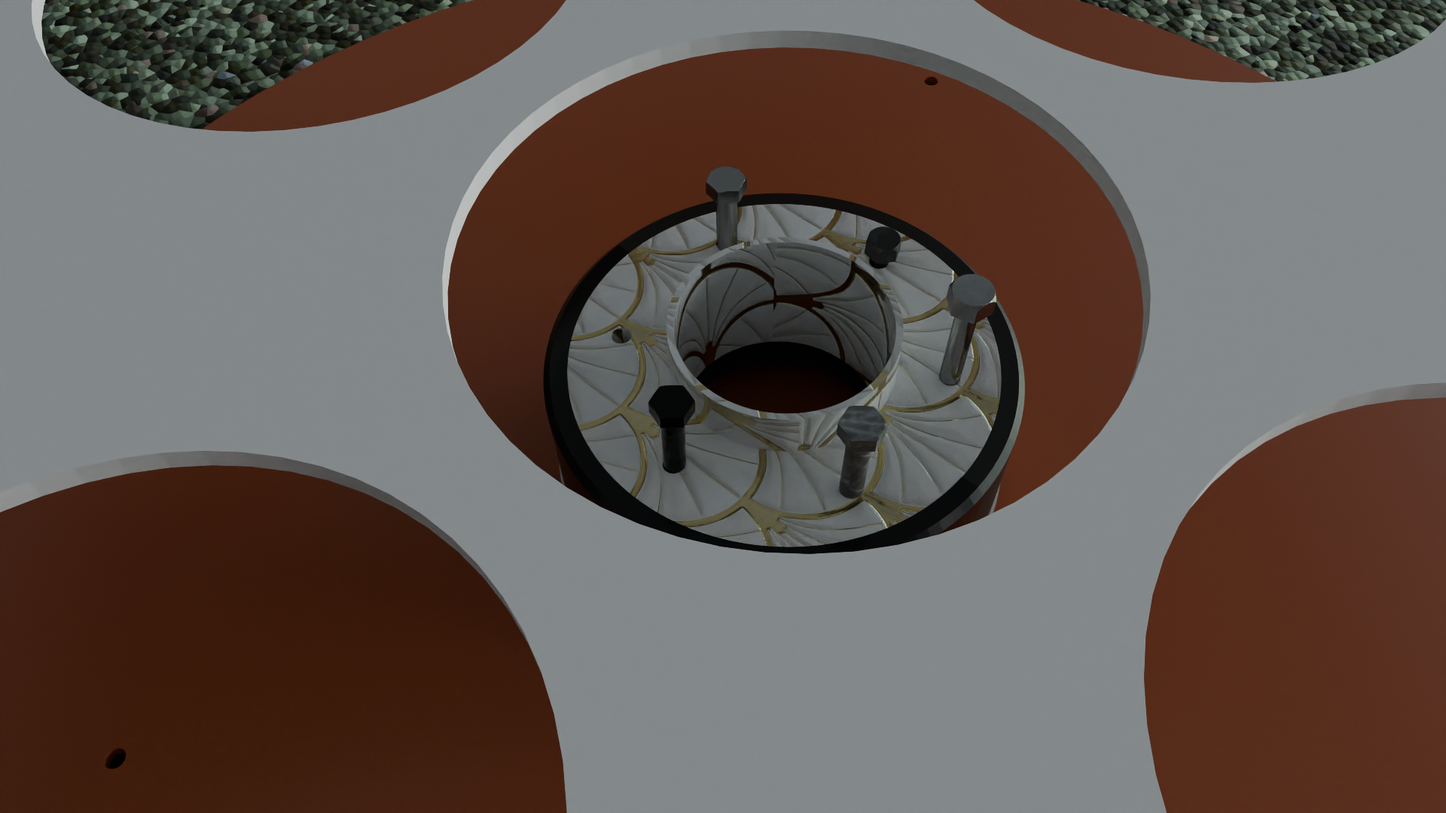bolt: (837, 406, 888, 442), (950, 274, 996, 312), (648, 385, 695, 419), (706, 166, 747, 193), (866, 227, 902, 254)
